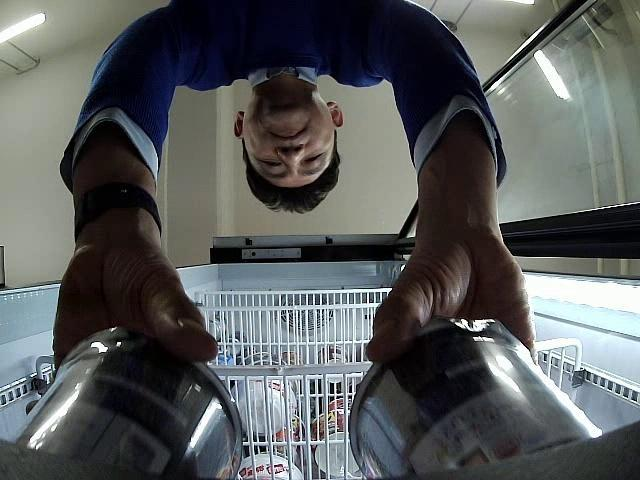08_buldak_S: (349, 318, 601, 480), (17, 328, 242, 480)
